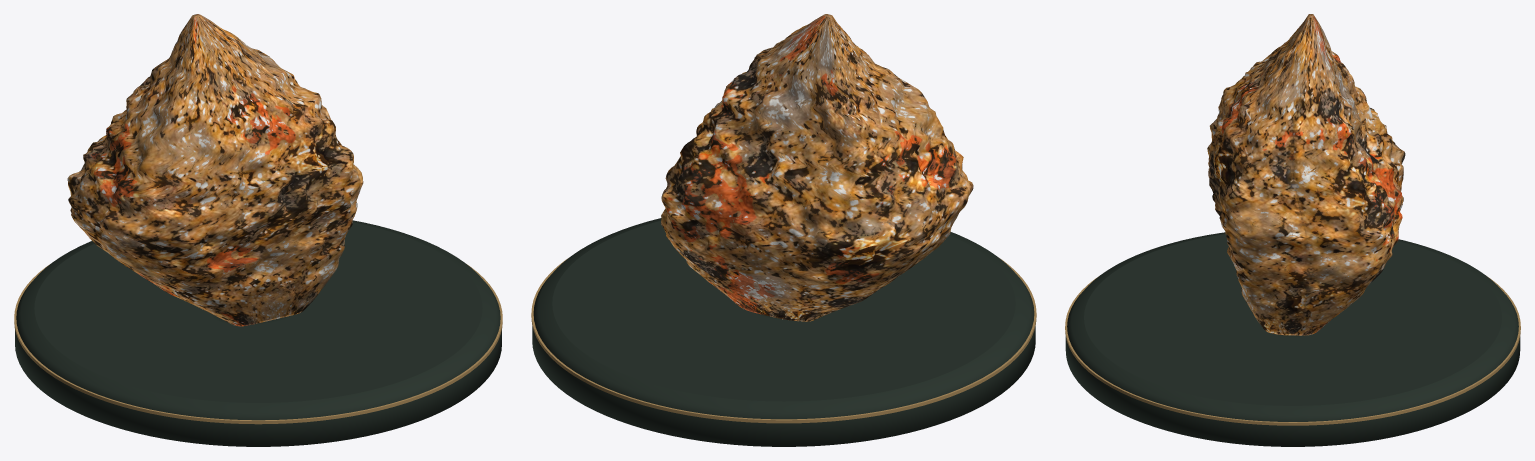
Rendered from lingstone-concept-03-v192-b8656a4f3341.glb.
3 views of the same model, side by side, from view 1: azimuth 30°, elevation 25°; view 2: azimuth 150°, elevation 25°; view 3: azimuth 270°, elevation 25° (orthographic). The views are drawn at different scales.
Parts seen in each view (by area): view 1: Centered beveled display plinth, XY-CONCEPT-003 concept stone, Champagne gold edge; view 2: Centered beveled display plinth, XY-CONCEPT-003 concept stone, Champagne gold edge; view 3: Centered beveled display plinth, XY-CONCEPT-003 concept stone, Champagne gold edge.
Boxes of the visible parts, bbox=[...] form: Centered beveled display plinth: bbox=[15, 220, 501, 446]; XY-CONCEPT-003 concept stone: bbox=[67, 14, 363, 326]; Champagne gold edge: bbox=[14, 264, 502, 424]; Centered beveled display plinth: bbox=[532, 218, 1035, 446]; XY-CONCEPT-003 concept stone: bbox=[661, 14, 973, 321]; Champagne gold edge: bbox=[531, 258, 1036, 423]; Centered beveled display plinth: bbox=[1065, 232, 1520, 446]; XY-CONCEPT-003 concept stone: bbox=[1207, 14, 1405, 335]; Champagne gold edge: bbox=[1065, 277, 1520, 425].
Bounding box in the file's own units: 2.17 × 1.66 × 2.17.
4 materials, 1 textured.
